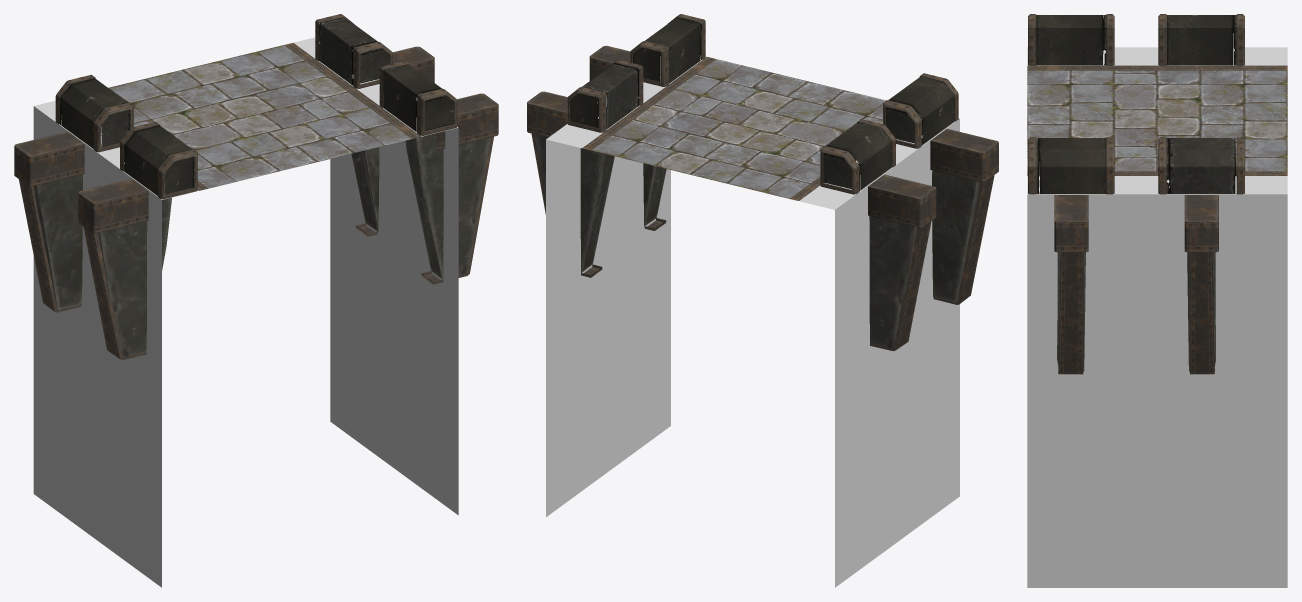
3 renders of one model, left to right at view 1: azimuth 30°, elevation 25°; view 2: azimuth 150°, elevation 25°; view 3: azimuth 270°, elevation 25°, orthographic. The views are drawn at different scales.
Parts seen in each view (by area): view 1: SM_Dowdun_Walkway_8x6_01_LOD0; view 2: SM_Dowdun_Walkway_8x6_01_LOD0; view 3: SM_Dowdun_Walkway_8x6_01_LOD0.
Part boxes in pixels (left/top/right/bottom): SM_Dowdun_Walkway_8x6_01_LOD0: left=14, top=14, right=498, bottom=587; SM_Dowdun_Walkway_8x6_01_LOD0: left=527, top=14, right=998, bottom=587; SM_Dowdun_Walkway_8x6_01_LOD0: left=1027, top=14, right=1287, bottom=587.
Bounding box in the file's own units: 10.95 × 11 × 6.
4 materials, 3 textured.
